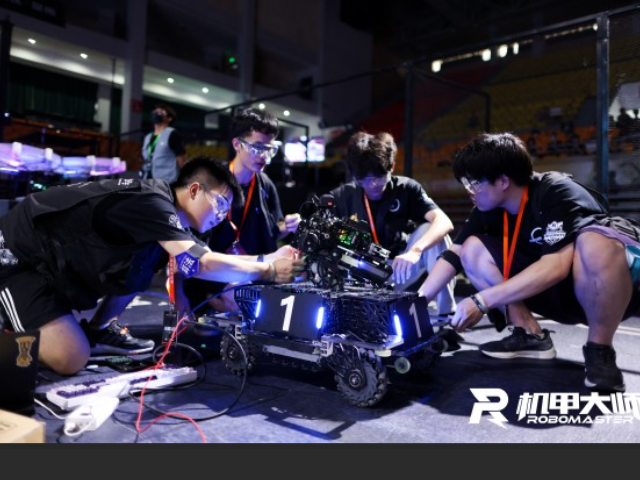rm: (218, 210, 441, 406)
